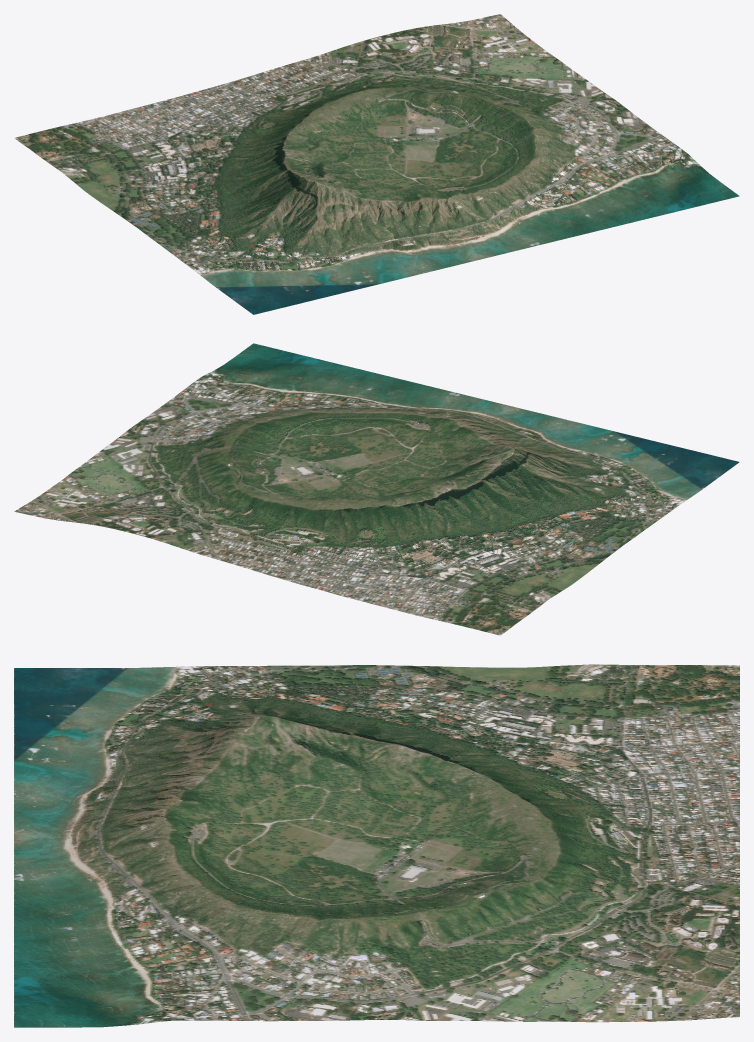
Rendered from diamond_head.glb.
3 views of the same model, one above another, from view 1: azimuth 30°, elevation 25°; view 2: azimuth 150°, elevation 25°; view 3: azimuth 270°, elevation 25° (orthographic). The views are drawn at different scales.
Visible parts, largest first — view 1: Object_2; view 2: Object_2; view 3: Object_2.
Part boxes in pixels (<box>): Object_2: <box>14,14,739,314</box>; Object_2: <box>14,343,739,635</box>; Object_2: <box>14,664,739,1027</box>.
Size of the model in its own units: 2599 by 199 by 2217.
Materials: 1 (1 with a texture image).
